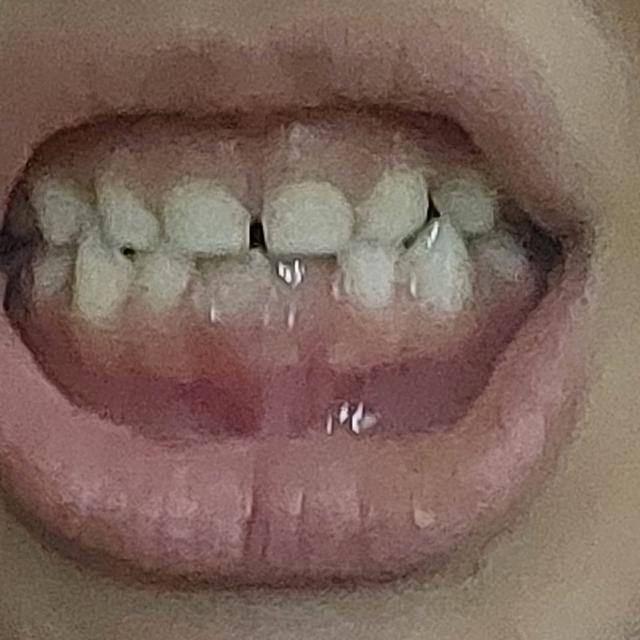tooth: (74, 244, 194, 326), (254, 179, 362, 262), (154, 180, 244, 267), (88, 166, 157, 250), (32, 173, 110, 239), (415, 238, 479, 318), (337, 238, 400, 318), (363, 174, 425, 236), (203, 266, 274, 318), (439, 164, 496, 220)
